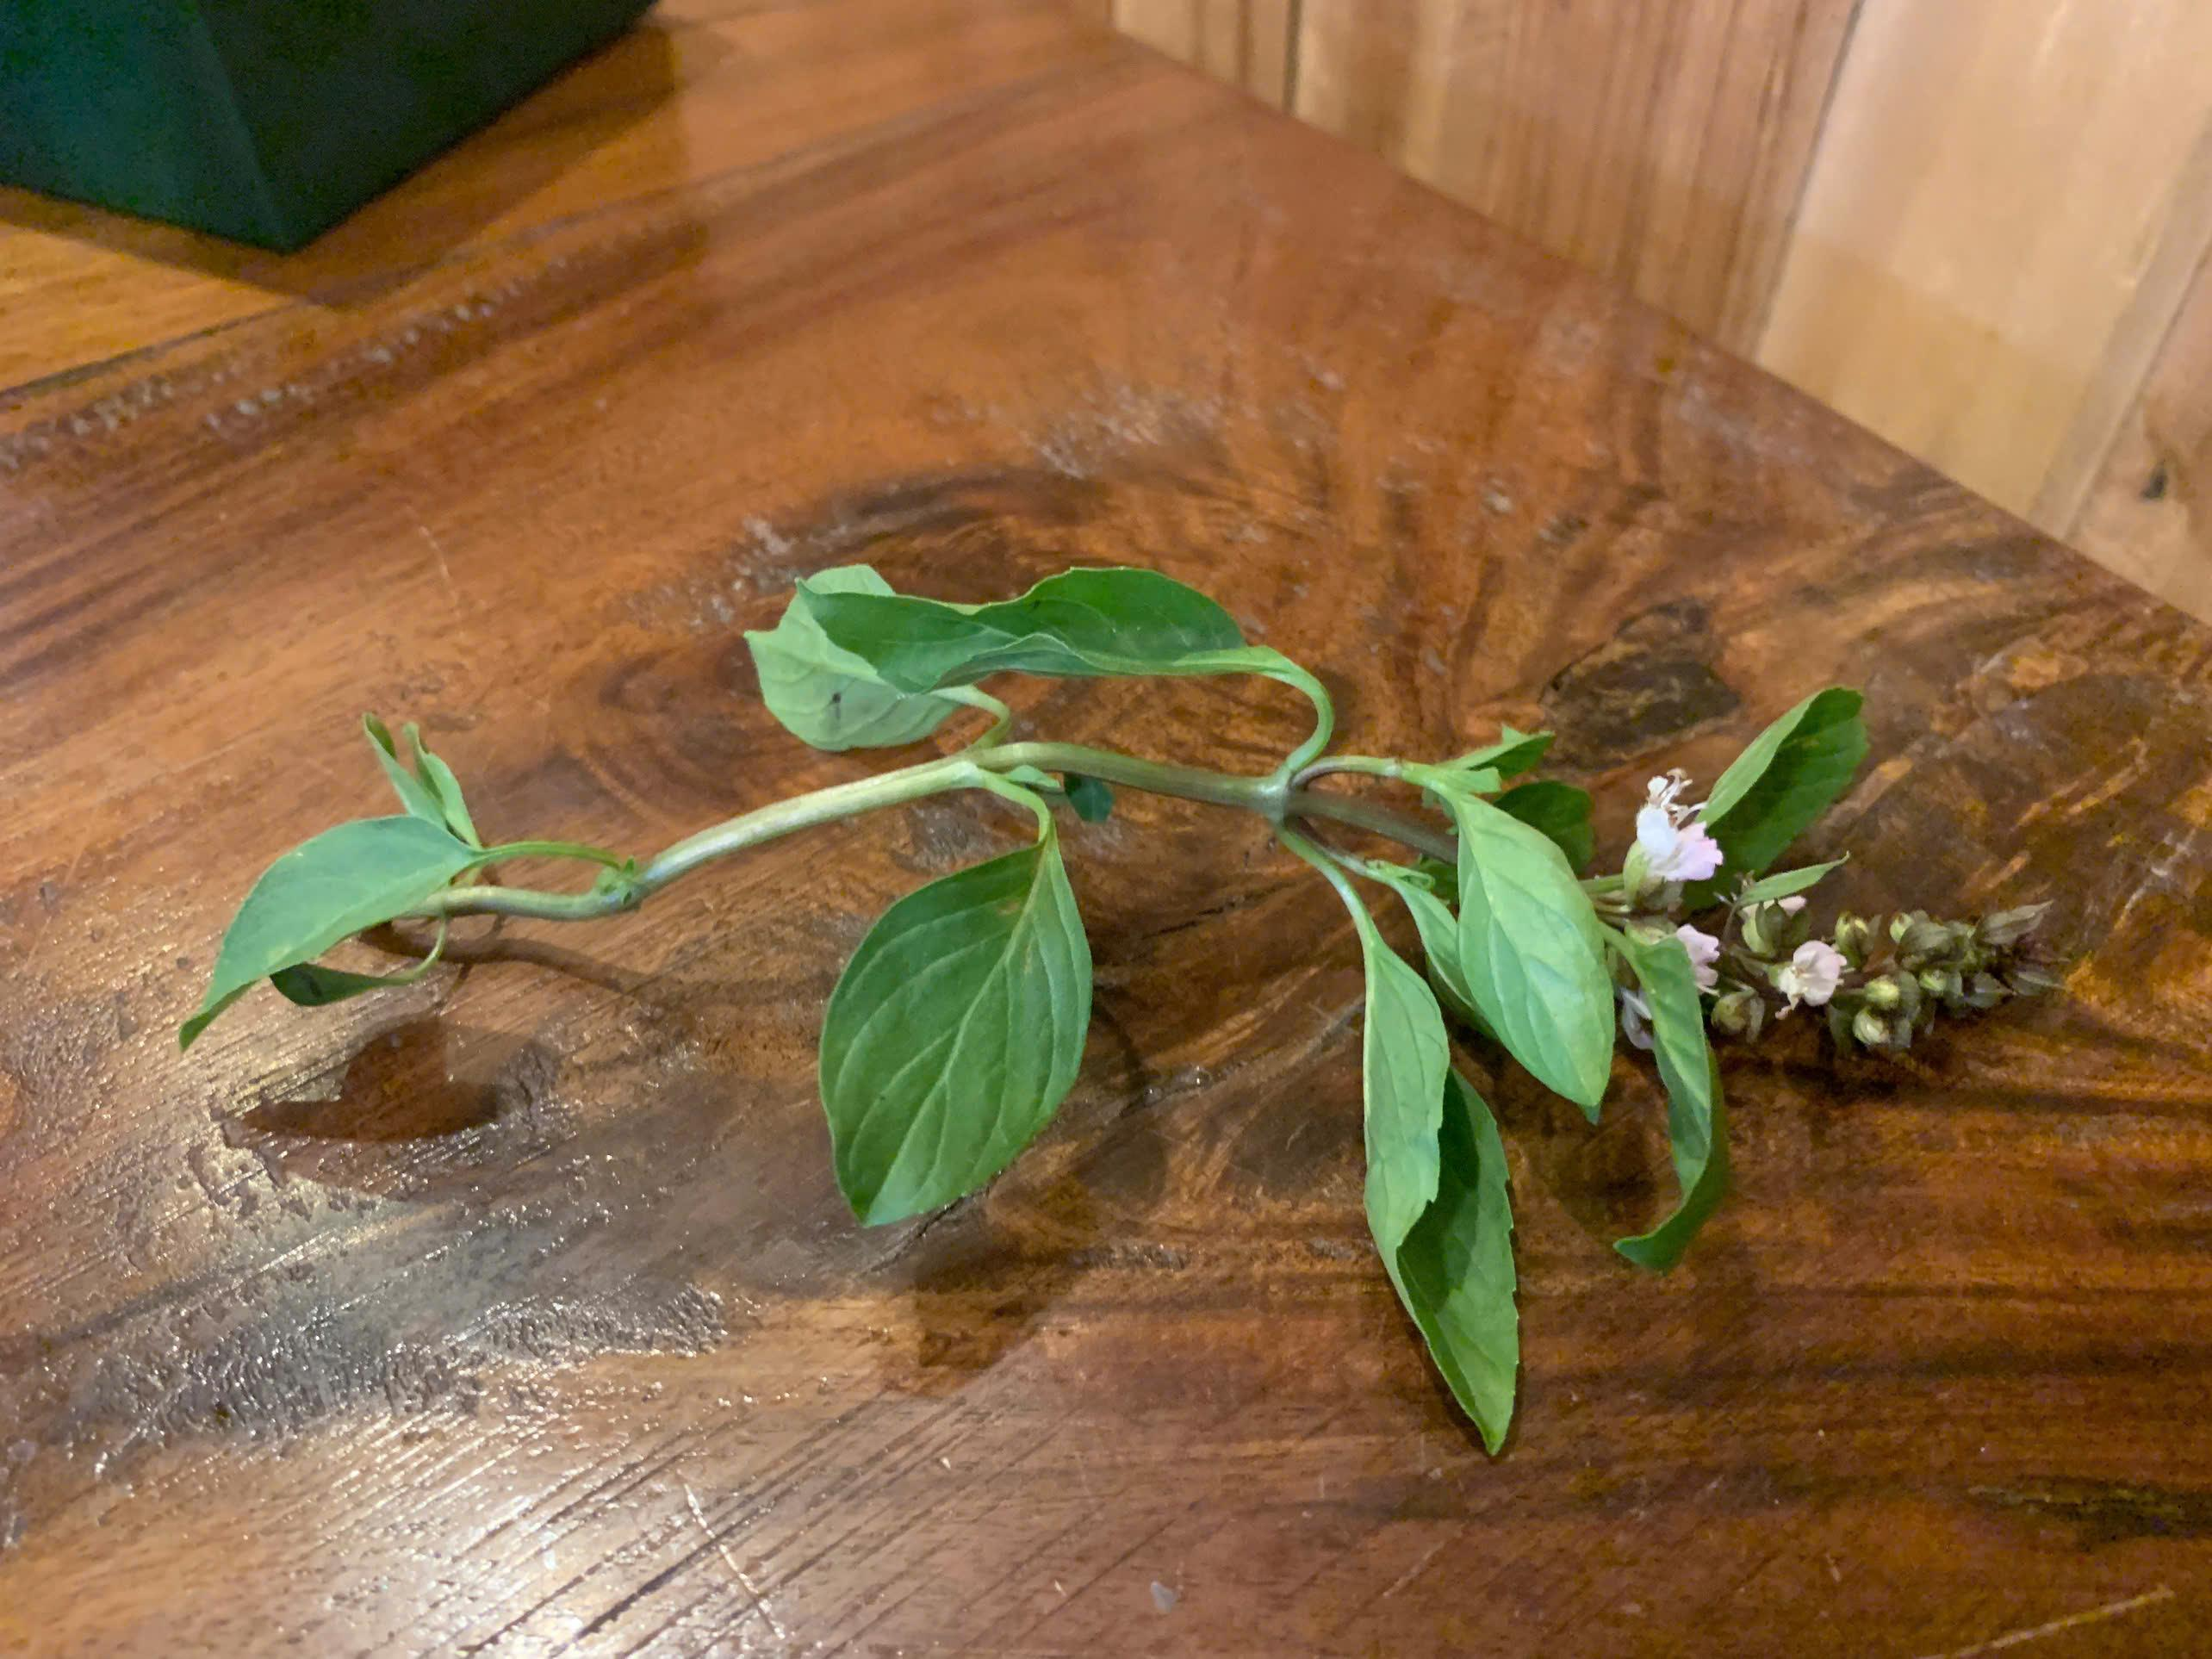Huu co: (192, 580, 1740, 1363)
